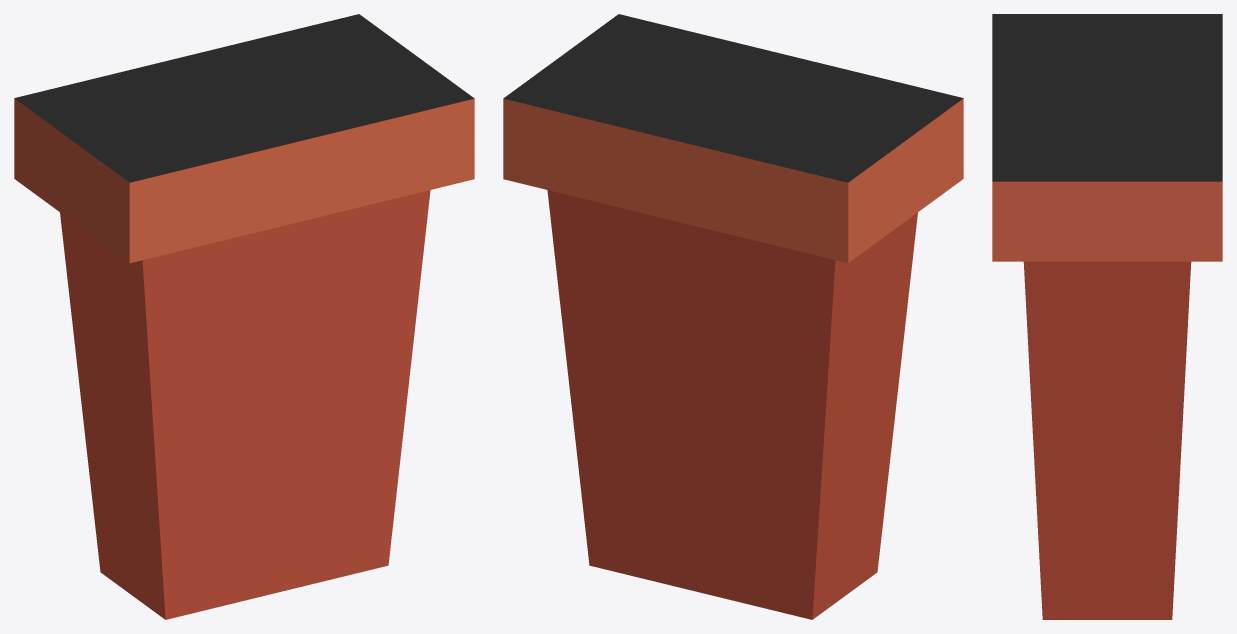
The model's file is House (Chimney).fbx.
3 renders of one model, left to right at view 1: azimuth 30°, elevation 25°; view 2: azimuth 150°, elevation 25°; view 3: azimuth 270°, elevation 25°, orthographic.
Visible parts, largest first — view 1: House (Chimney); view 2: House (Chimney); view 3: House (Chimney).
Boxes of the visible parts, <box> form: House (Chimney): <box>14,14,474,619</box>; House (Chimney): <box>503,14,963,619</box>; House (Chimney): <box>992,14,1222,619</box>.
Bounding box in the file's own units: 464 × 605 × 269.
